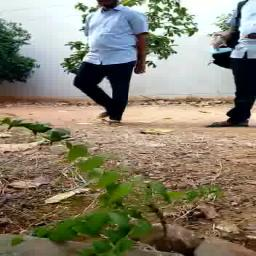Azadiractha Indica: (2, 100, 213, 255)
